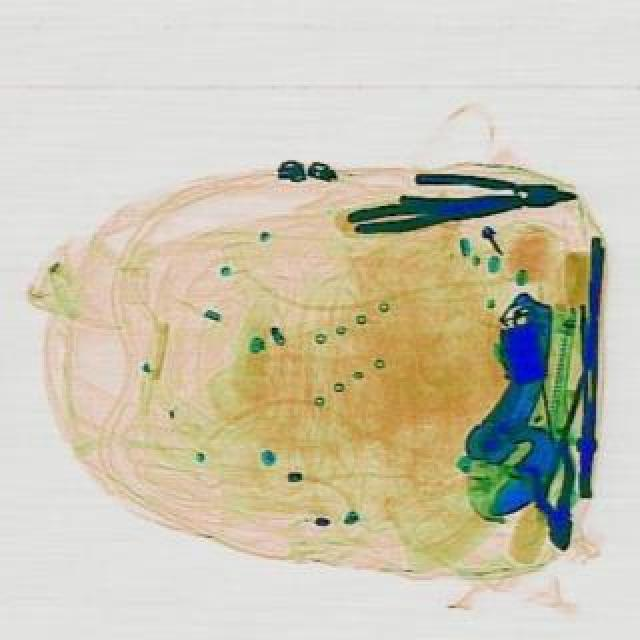wrench: (346, 180, 524, 240), (506, 438, 590, 556)
